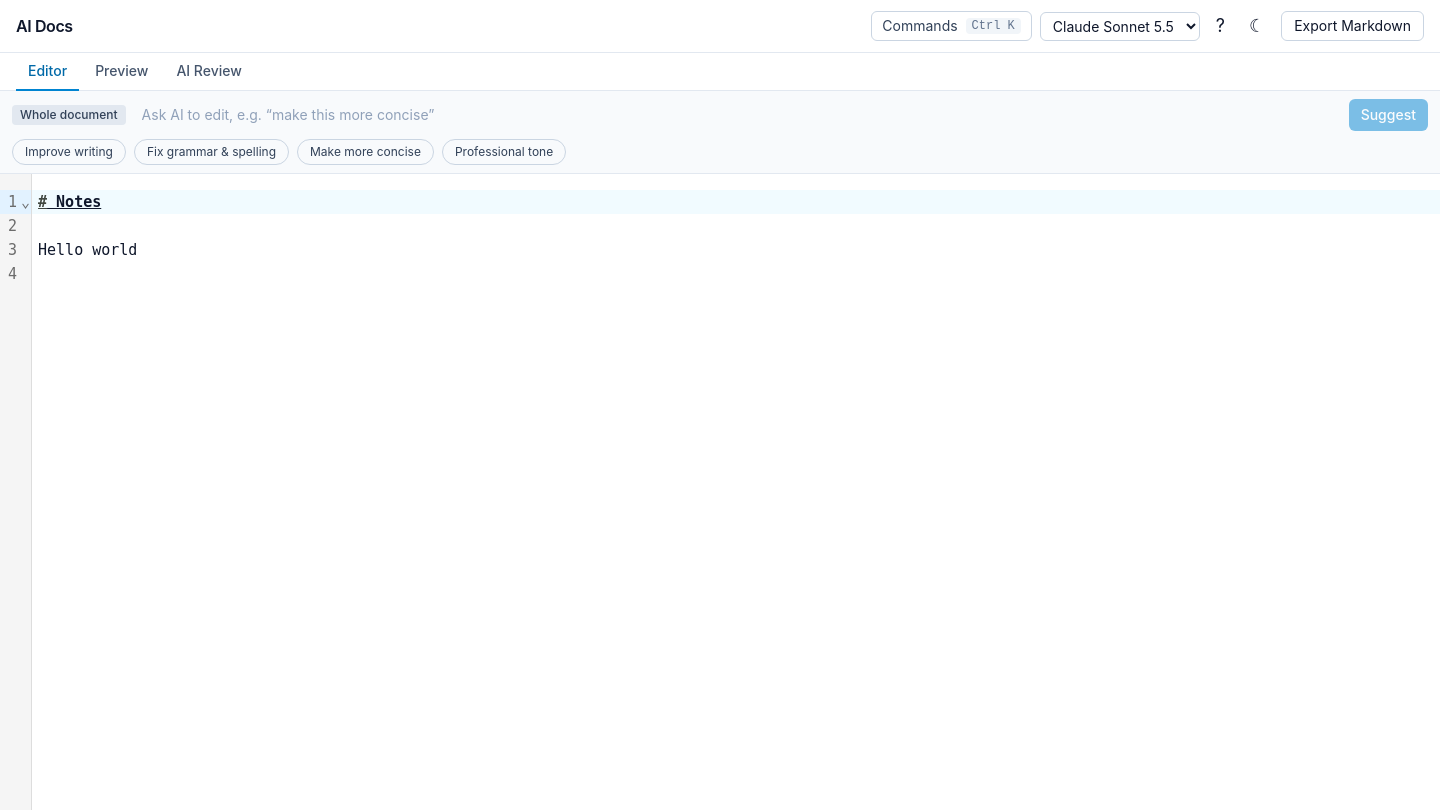
Scenario: App AI suggestions › asks the AI, opens the review tab, and applies accepted changes
Type "Make it friendlier" into the field named "AI instruction" at (737, 115), box [134,101,1341,129]
Then press Enter
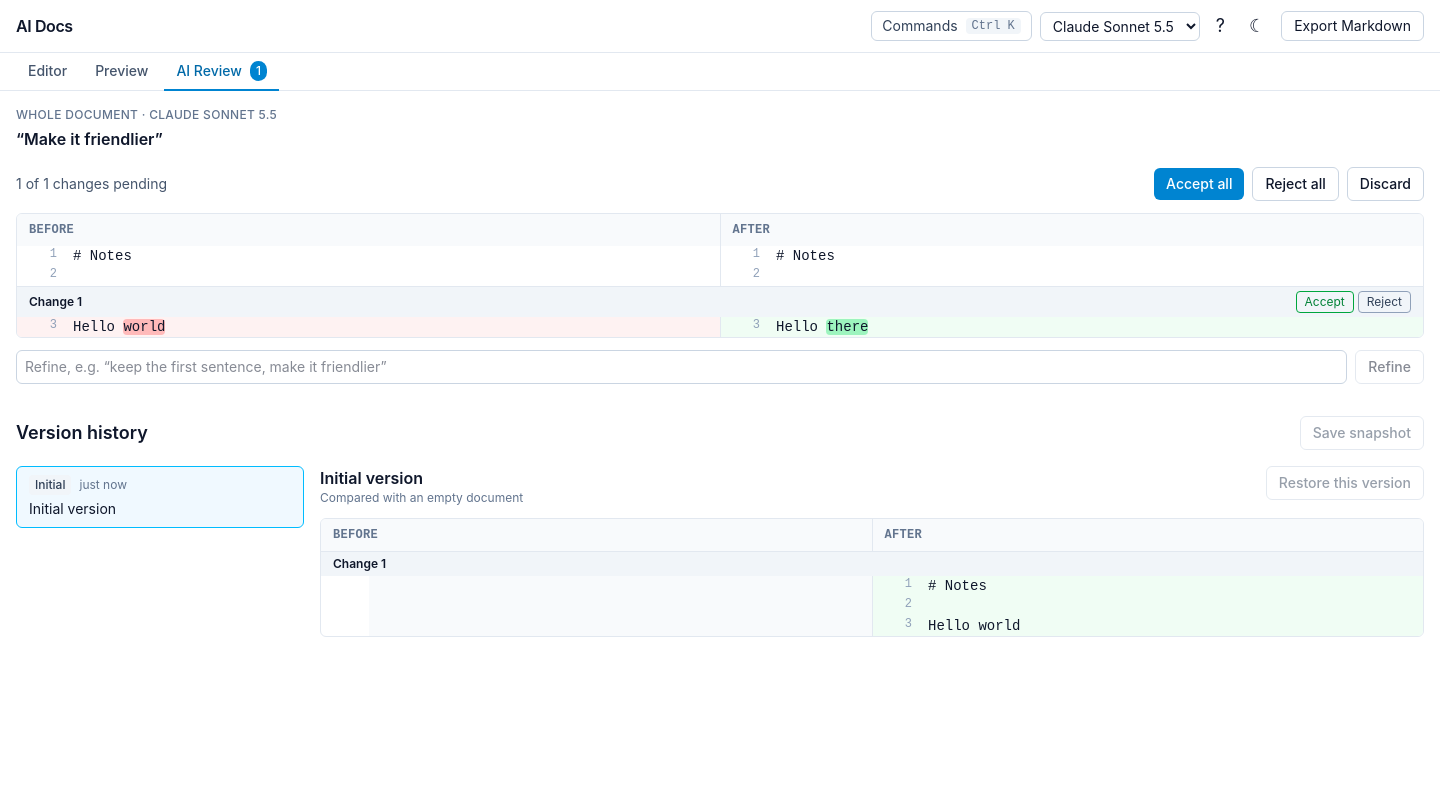
Expected: the button with aria-label "Accept change 1" is shown, [1296,291,1354,313]
Expected: the tab "AI Review 1" is shown, [164,53,279,91]
Click the button "Accept all" at (1199, 184), box [1154,168,1244,200]
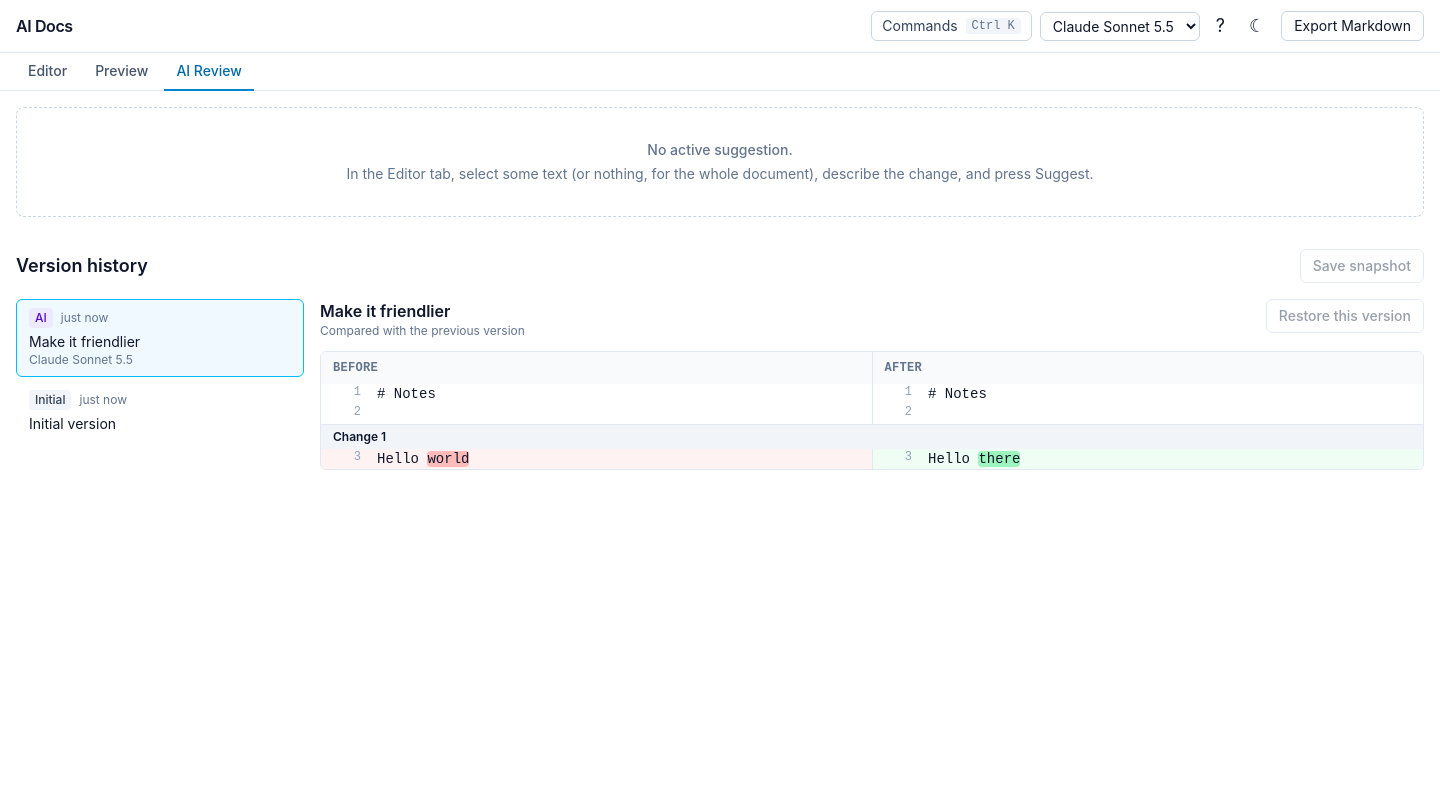
Expected: the text "No active suggestion." is shown, [647,141,793,158]
Click the tab "Preview" at (122, 72), box [83,53,160,91]
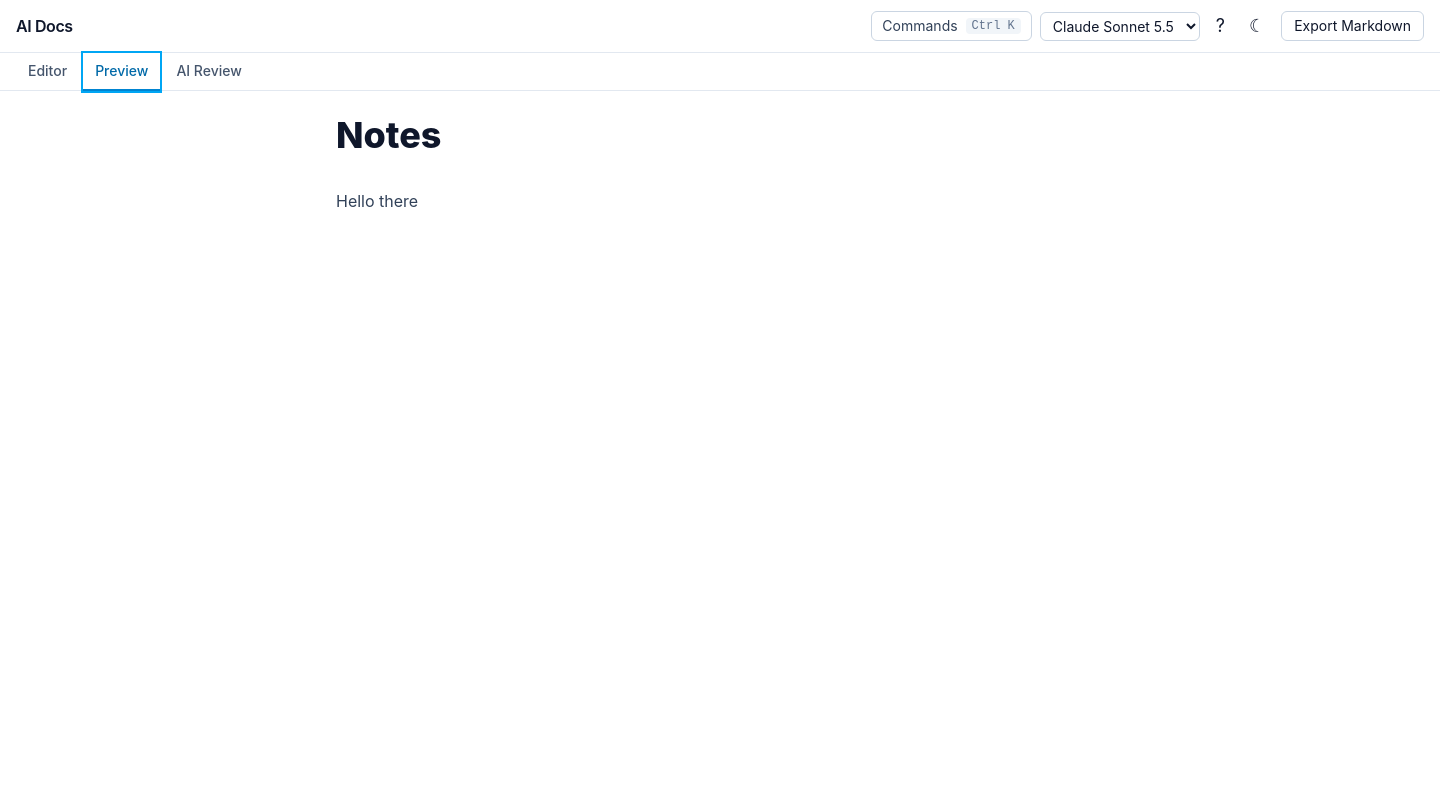
Expected: the text "Hello there" is shown, [336,191,418,211]
